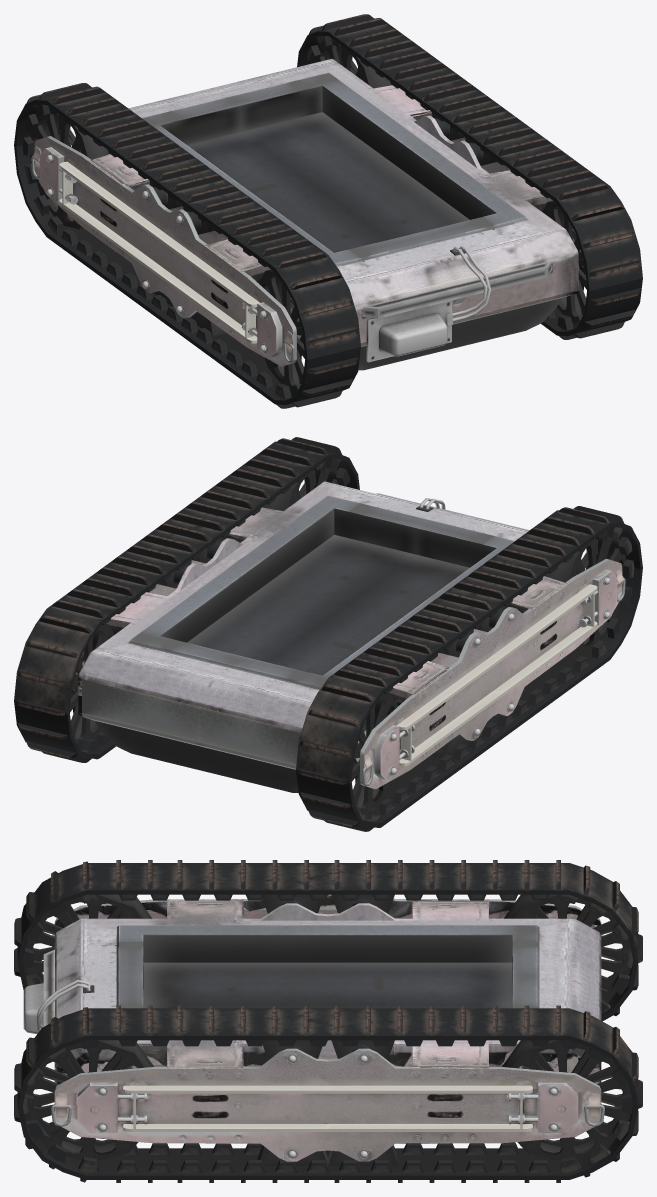
3 views of the same model, one above another, from view 1: azimuth 30°, elevation 25°; view 2: azimuth 150°, elevation 25°; view 3: azimuth 270°, elevation 25° (orthographic). The views are drawn at different scales.
Parts seen in each view (by area): view 1: Body; view 2: Body; view 3: Body.
Part boxes in pixels (x1,y1,x2,y2): Body: (14,14,642,408); Body: (14,437,642,831); Body: (14,860,642,1182).
Size of the model in its own units: 12.13 by 17.9 by 4.92.
1 material, 1 textured.
